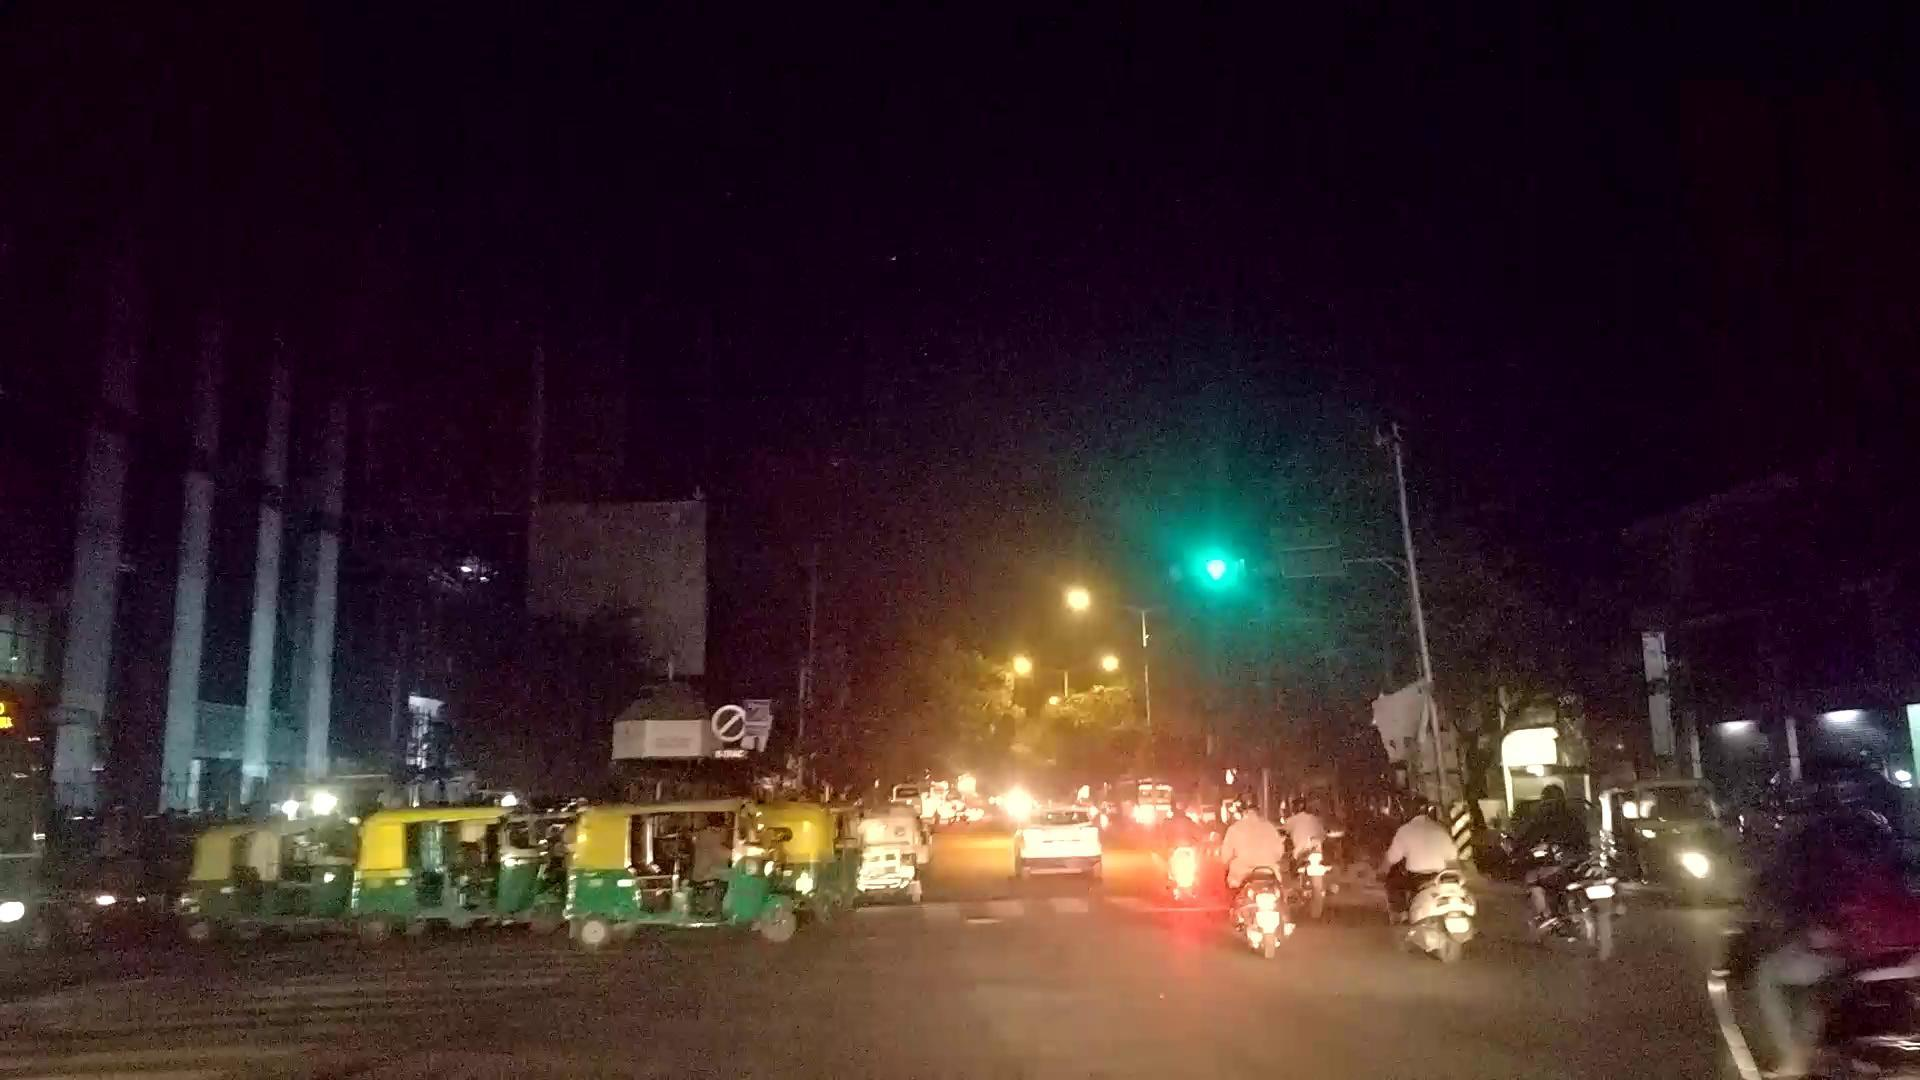off: (0, 12, 1920, 1080)
